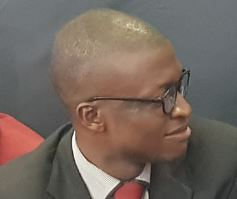without_facemask: (139, 108, 201, 161)
